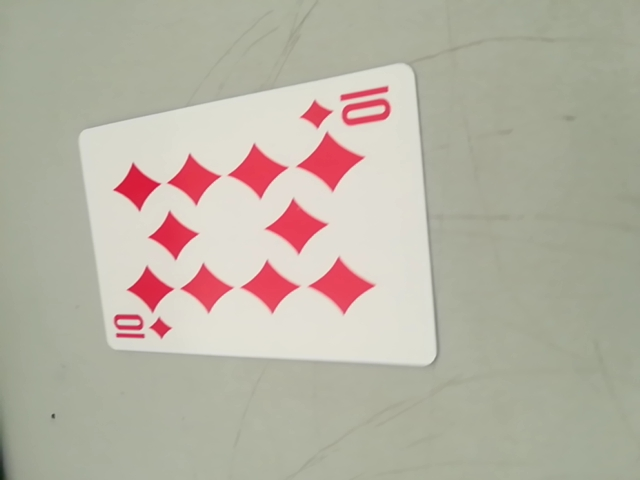fk 10: (302, 81, 404, 137), (107, 306, 176, 350)
